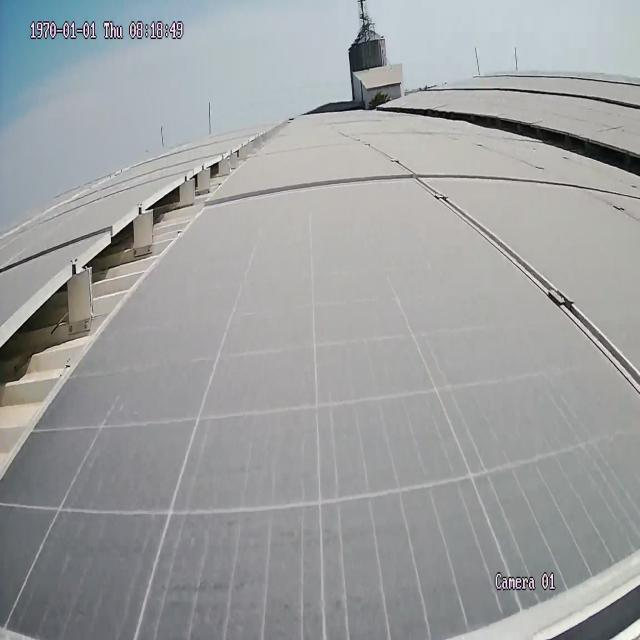interior panel: (222, 169, 640, 401), (438, 548, 640, 640)
outher panel: (2, 129, 279, 479), (432, 106, 639, 182)
